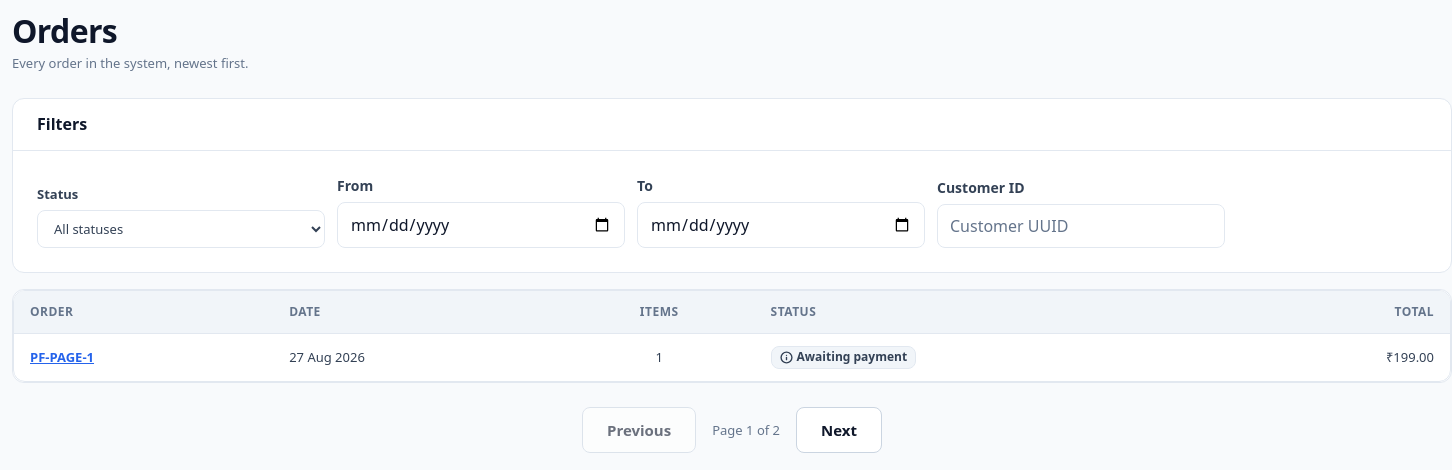
Test: AdminOrdersPage › pages through results with the shared AdminPagination control
This screenshot has width=1452, height=470.
Check: the link "PF-PAGE-1" is shown, box [30, 348, 94, 366]
Step 1. Click the button "Next" → (839, 430), box [796, 408, 882, 454]
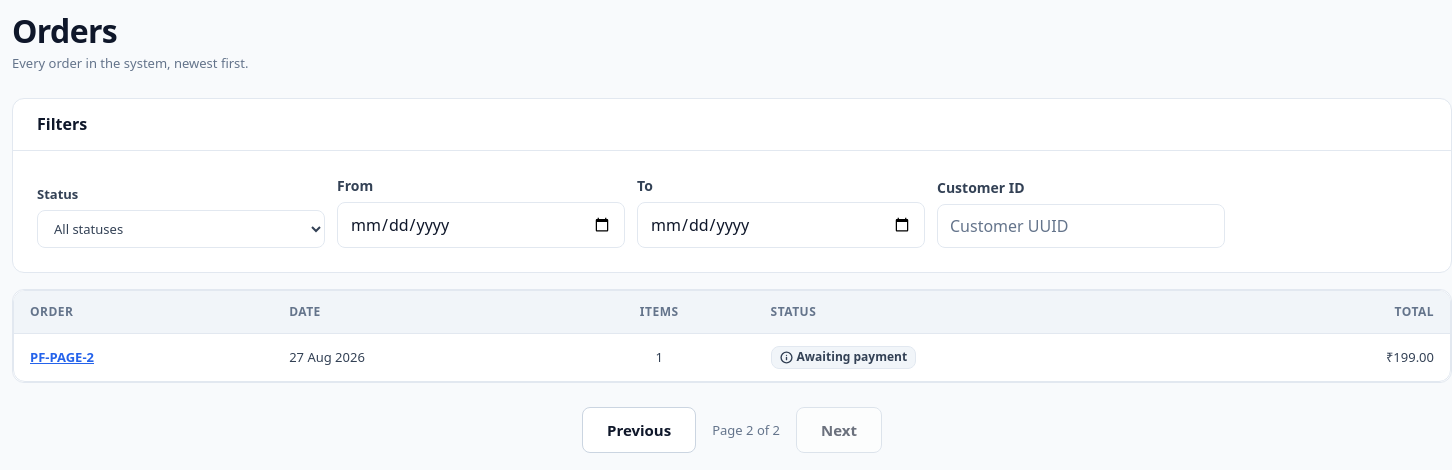
Check: the link "PF-PAGE-2" is shown, box [30, 348, 94, 366]
